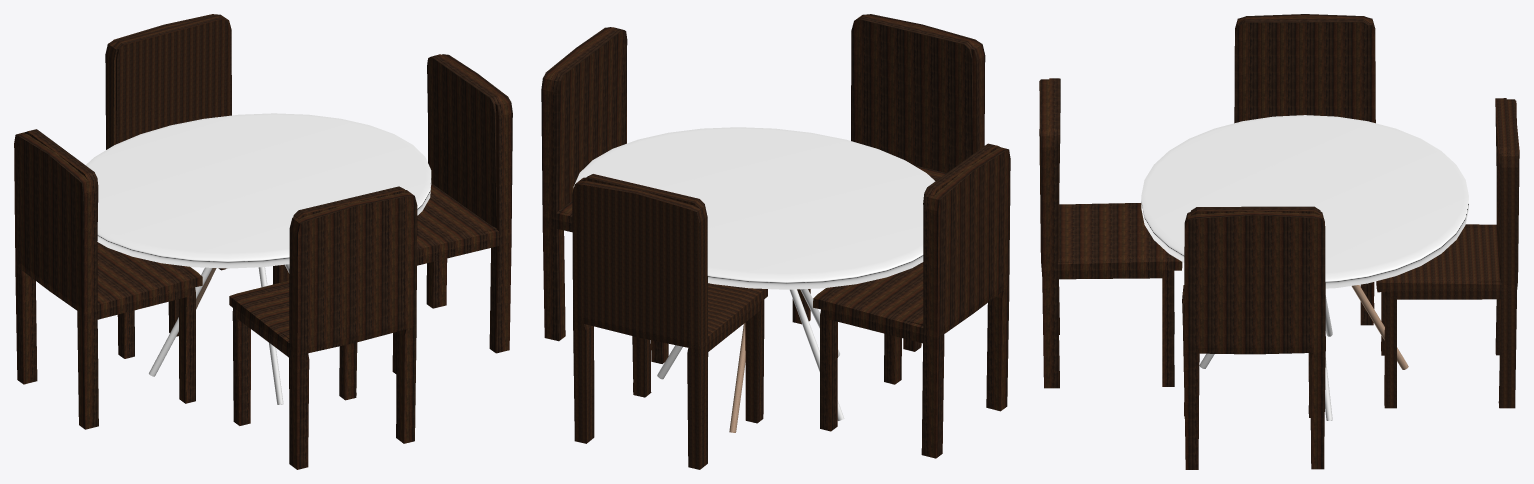
The model's file is DiningTable_1.glb.
3 views of the same model, side by side, from view 1: azimuth 30°, elevation 25°; view 2: azimuth 150°, elevation 25°; view 3: azimuth 270°, elevation 25° (orthographic). The views are drawn at different scales.
Parts seen in each view (by area): view 1: Cylinder_0, Plane.001_10, Plane_8, Plane.002_11, Plane.003_12, Cylinder.002_2, Cylinder.004_4; view 2: Cylinder_0, Plane.003_12, Plane_8, Plane.001_10, Plane.002_11, Cylinder.005_5, Cylinder.002_2; view 3: Cylinder_0, Plane.002_11, Plane_8, Plane.001_10, Plane.003_12, Cylinder.005_5.
Part boxes in pixels (x1,y1,x2,y2): Cylinder_0: (85,113,431,268); Plane.001_10: (229,186,417,469); Plane_8: (14,129,202,429); Plane.002_11: (392,54,512,373); Plane.003_12: (105,14,289,336); Cylinder.002_2: (149,267,212,376); Cylinder.004_4: (258,267,283,404); Cylinder_0: (573,127,935,289); Plane.003_12: (572,174,767,469); Plane_8: (813,143,1010,458); Plane.001_10: (792,14,985,351); Plane.002_11: (541,27,668,363); Cylinder.005_5: (729,323,745,432); Cylinder.002_2: (789,289,844,420); Cylinder_0: (1141,115,1468,288); Plane.002_11: (1182,206,1325,469); Plane_8: (1234,14,1375,325); Plane.001_10: (1039,78,1182,388); Plane.003_12: (1376,98,1519,408); Cylinder.005_5: (1351,285,1408,369).
Size of the model in its own units: 8.43 by 5.15 by 8.45.
7 materials, 2 textured.
